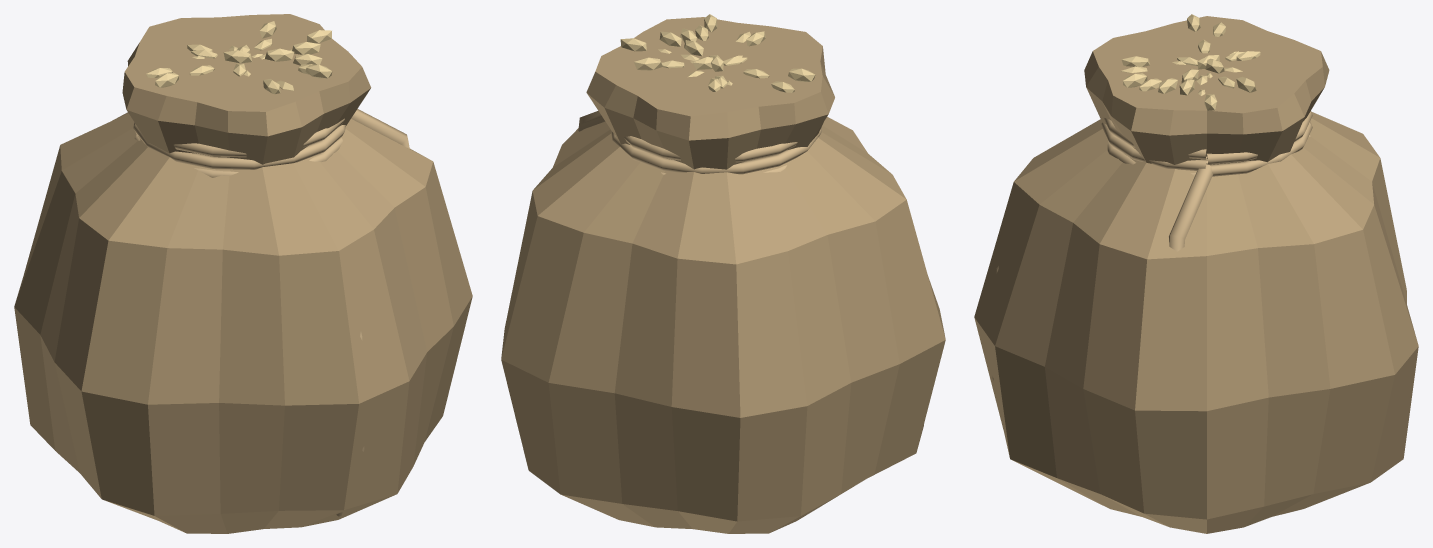
File: HanGrainPouch.fbx
3 views of the same model, side by side, from view 1: azimuth 30°, elevation 25°; view 2: azimuth 150°, elevation 25°; view 3: azimuth 270°, elevation 25° (orthographic). The views are drawn at different scales.
Parts seen in each view (by area): view 1: HanGrainPouch; view 2: HanGrainPouch; view 3: HanGrainPouch.
Part boxes in pixels (<box>): HanGrainPouch: <box>14,14,472,533</box>; HanGrainPouch: <box>501,14,945,533</box>; HanGrainPouch: <box>974,14,1418,533</box>.
Bounding box in the file's own units: 29.74 × 31.46 × 29.77.
